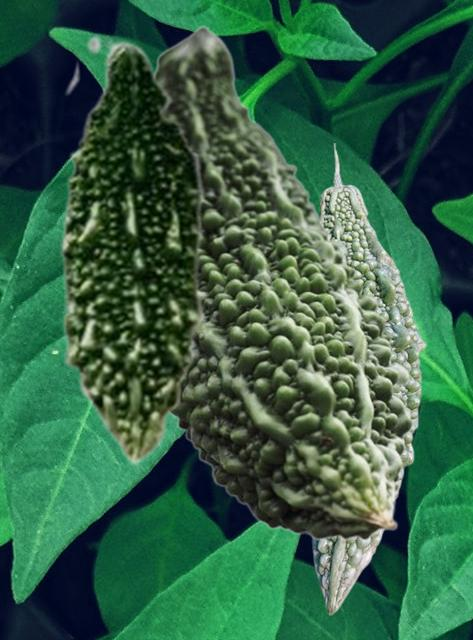ampalaya: (153, 24, 413, 540), (59, 34, 214, 467), (309, 143, 425, 614)
